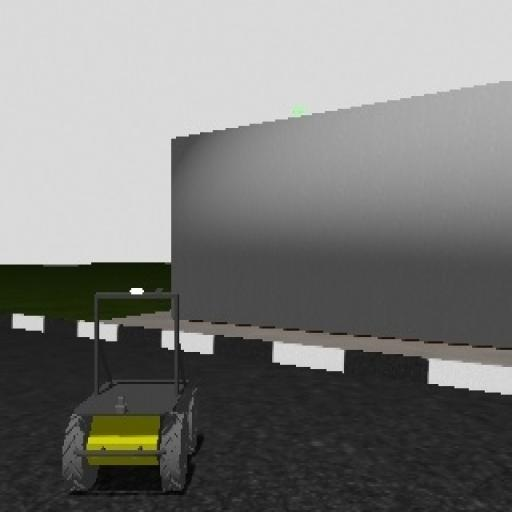huskya200: (57, 280, 205, 512)
